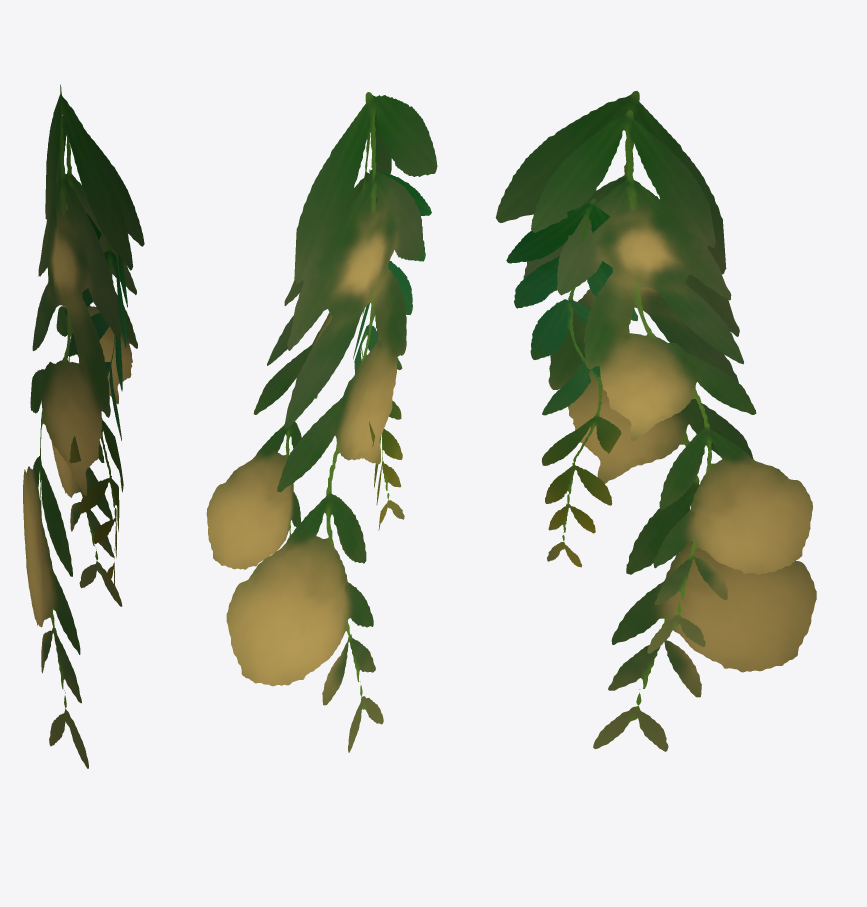
File: Prop_DriedFlower_04.fbx
3 views of the same model, side by side, from view 1: azimuth 30°, elevation 25°; view 2: azimuth 150°, elevation 25°; view 3: azimuth 270°, elevation 25° (orthographic). The views are drawn at different scales.
Parts seen in each view (by area): view 1: pPlane37; view 2: pPlane37; view 3: pPlane37.
Boxes of the visible parts, x1=… form: pPlane37: x1=23, y1=84, x2=144, y2=768; pPlane37: x1=206, y1=92, x2=437, y2=752; pPlane37: x1=495, y1=91, x2=816, y2=751.
Size of the model in its own units: 9.06 by 83.15 by 32.31.
